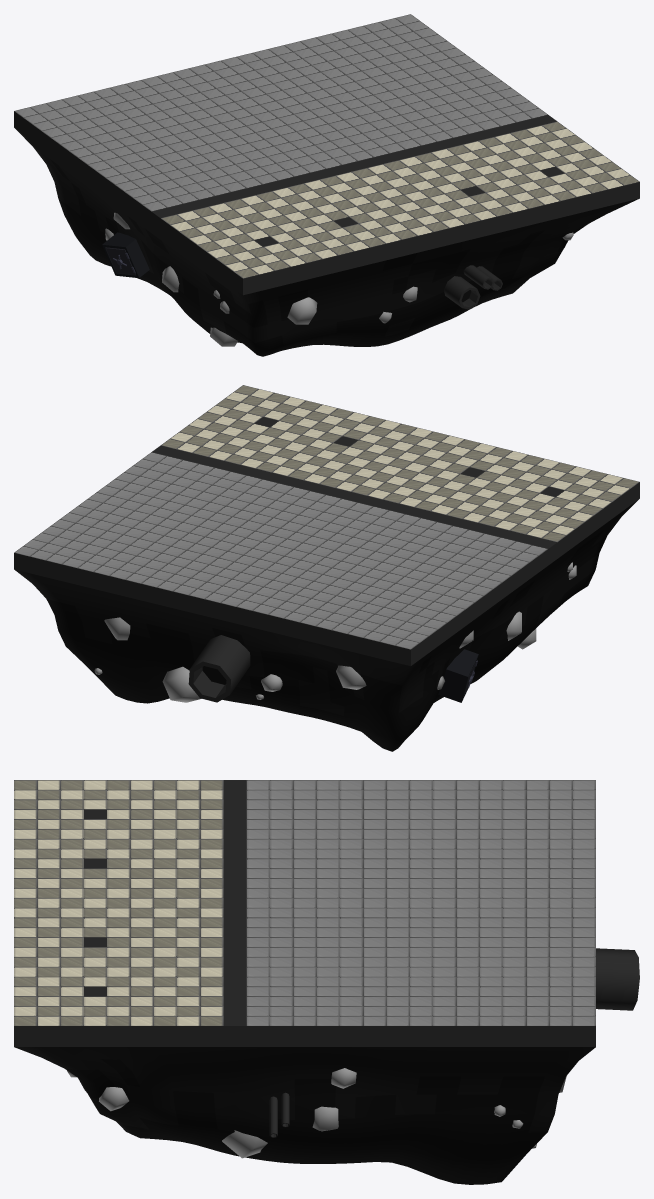
Rendered from Vault Land Chunk Terrain.FBX.
3 views of the same model, one above another, from view 1: azimuth 30°, elevation 25°; view 2: azimuth 150°, elevation 25°; view 3: azimuth 270°, elevation 25° (orthographic). The views are drawn at different scales.
Visible parts, largest first — view 1: Vault Land Chunk, BuriedSafe, Pipe001, Rock001; view 2: Vault Land Chunk, Pipe006, BuriedSafe, Rock018; view 3: Vault Land Chunk, Pipe006, Rock006, Rock007.
Part boxes in pixels (box(x1,y1,x2,y2)): Vault Land Chunk: box(14, 14, 639, 356); BuriedSafe: box(102, 232, 149, 277); Pipe001: box(444, 276, 480, 309); Rock001: box(287, 297, 317, 324); Vault Land Chunk: box(14, 385, 639, 751); Pipe006: box(188, 635, 250, 702); BuriedSafe: box(438, 649, 478, 702); Rock018: box(162, 666, 201, 702); Vault Land Chunk: box(14, 780, 595, 1184); Pipe006: box(596, 948, 639, 1010); Rock006: box(222, 1130, 267, 1158); Rock007: box(312, 1106, 338, 1131).
Size of the model in its own units: 25.41 by 9.68 by 26.89.
Materials: 10 (3 with a texture image).
